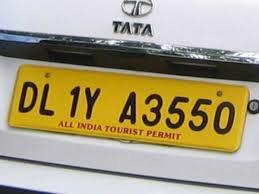Liscence Plate: (16, 64, 239, 149)
